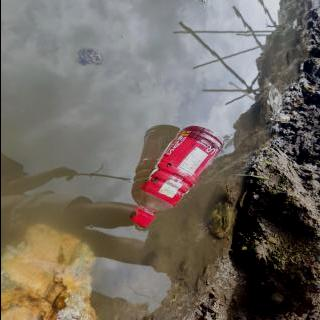bottle: (127, 123, 225, 230)
